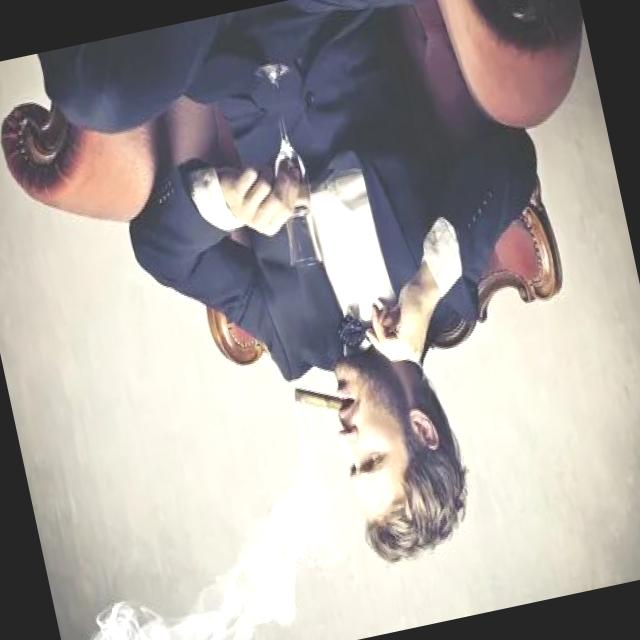cigarette: (288, 372, 361, 421)
